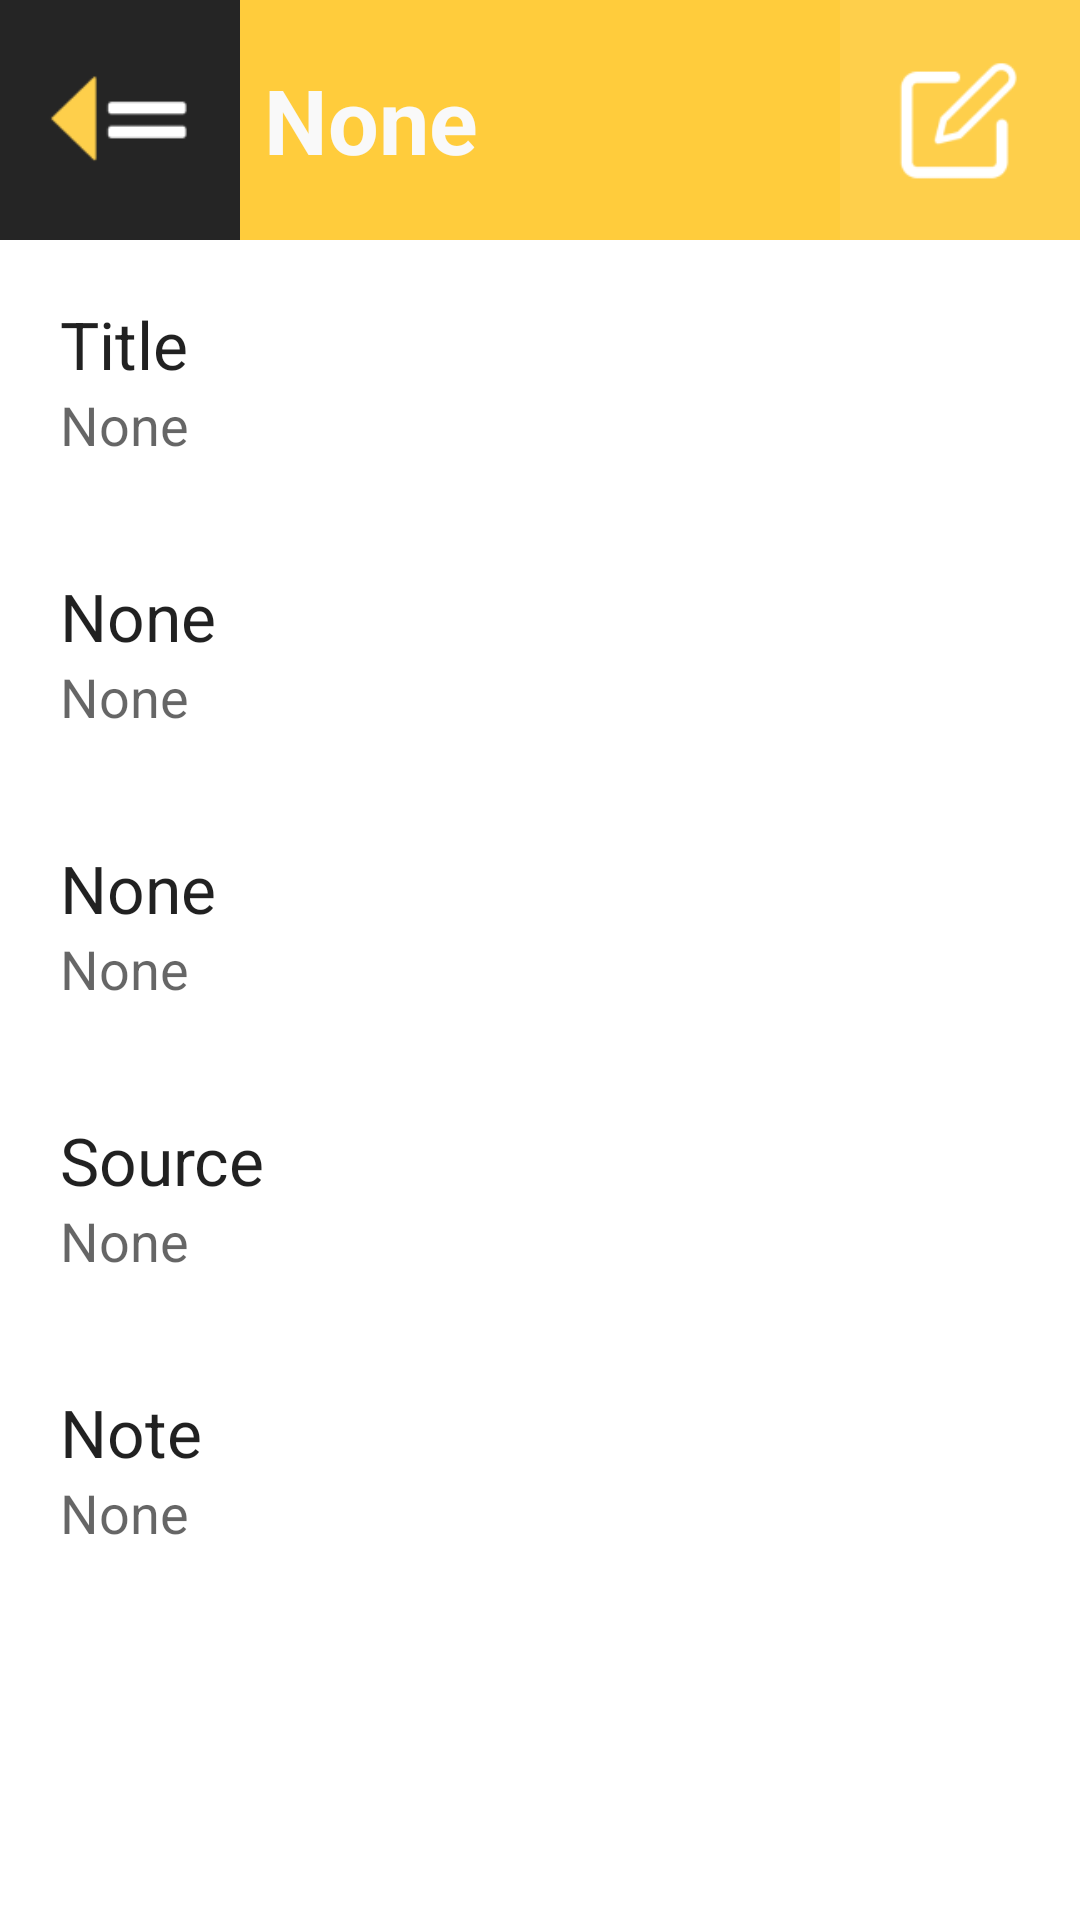

Icon click points for this 1080px x 1920px phone screenshot, format (x,y):
back: (120,120)
edit: (960,120)
